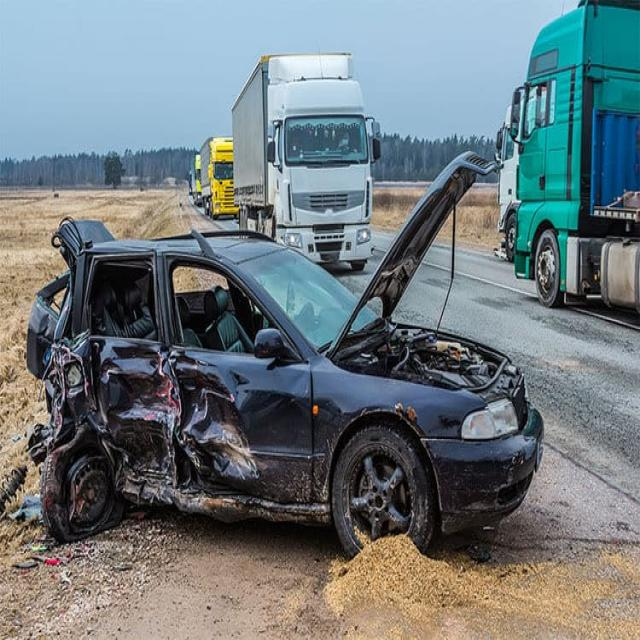Accident: (29, 148, 544, 561)
